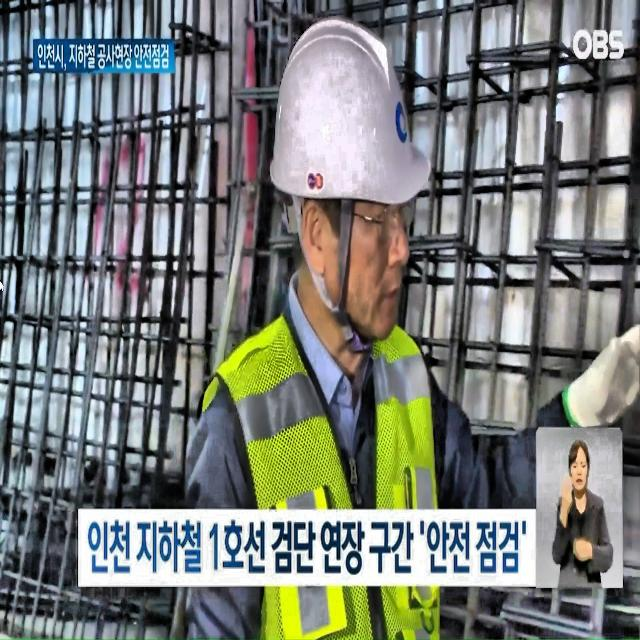safety_helmet: (269, 15, 433, 210)
safety_jacket: (208, 310, 442, 640)
